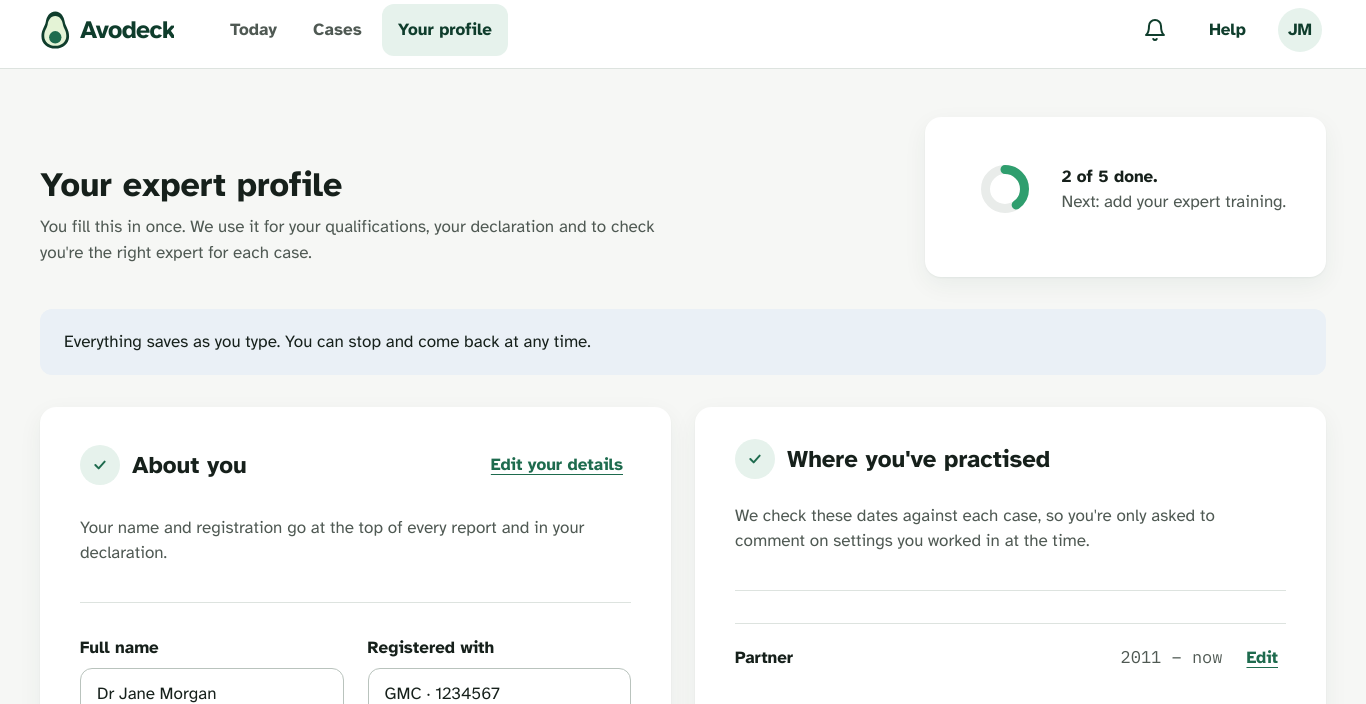
Test: a role changed elsewhere asks which version to keep instead of overwriting it
Click the button with aria-label "Edit Partner" at (1262, 658), box [1238, 632, 1286, 684]
(page scrolled)
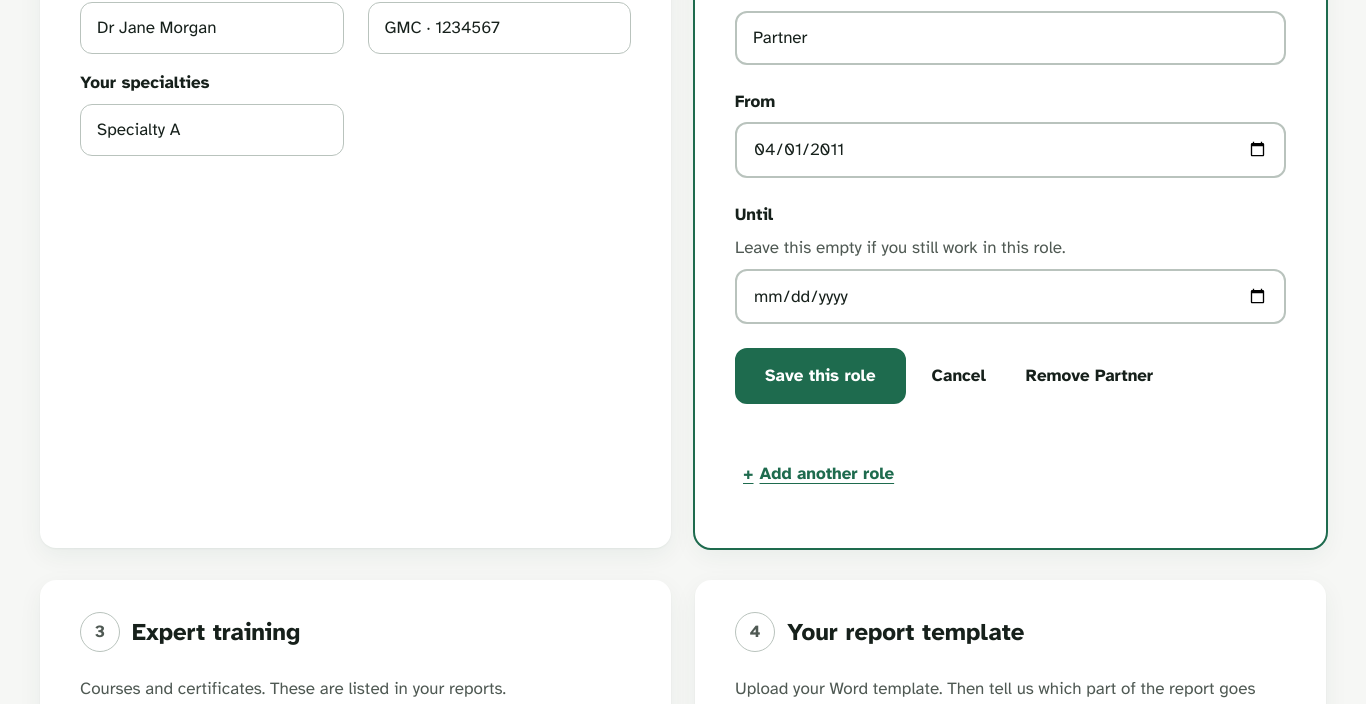
Click the button "Save this role" at (820, 376), box [735, 348, 906, 404]
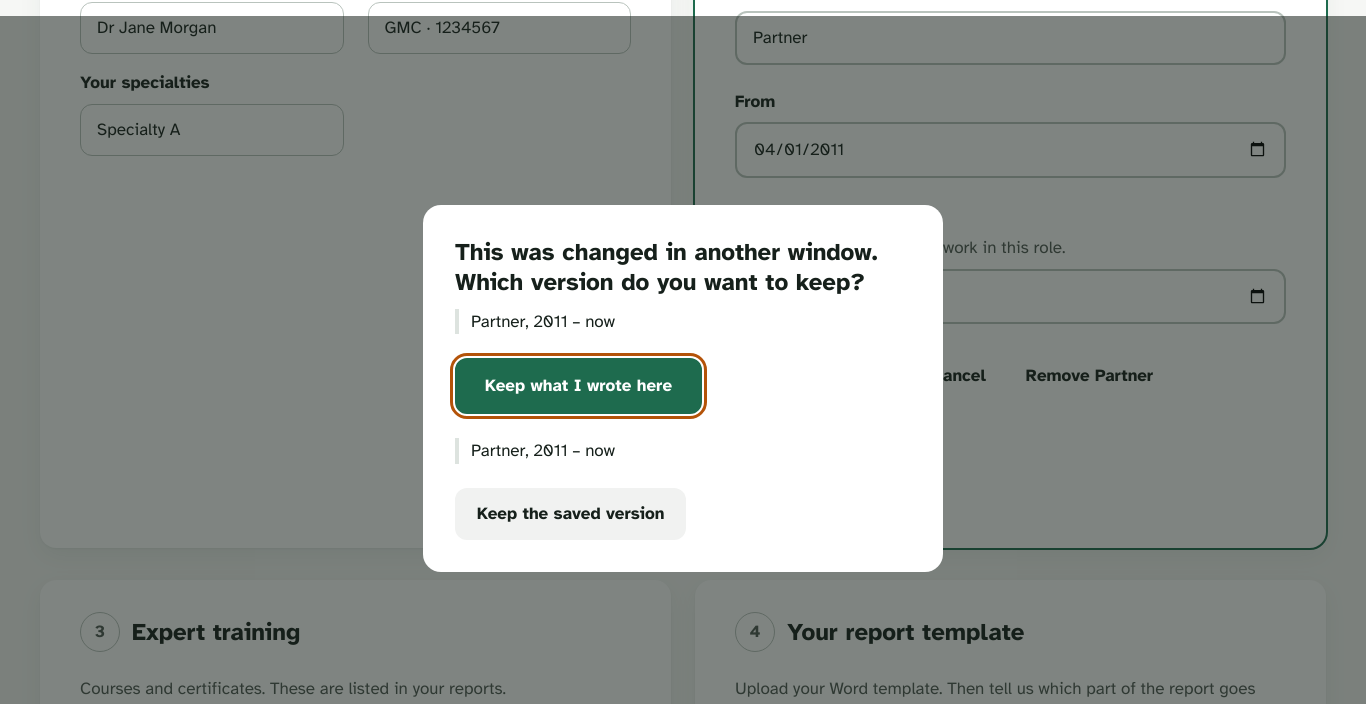
Result: the dialog is shown at [423, 204, 943, 572]
